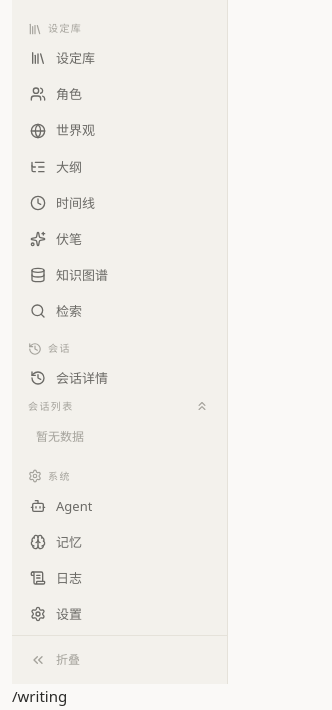
Test: AppNav — 记忆导航项（#486） › 点击 nav-item-memory → location.pathname=/memory
(page scrolled)
Click the link with test id "nav-item-memory" at {"x": 56, "y": 542}, box [30, 533, 82, 551]
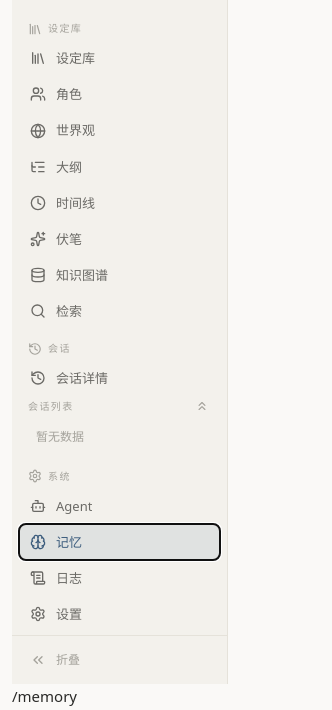
Now the text with test id "location-probe" reads "/memory", box [12, 686, 77, 706]
